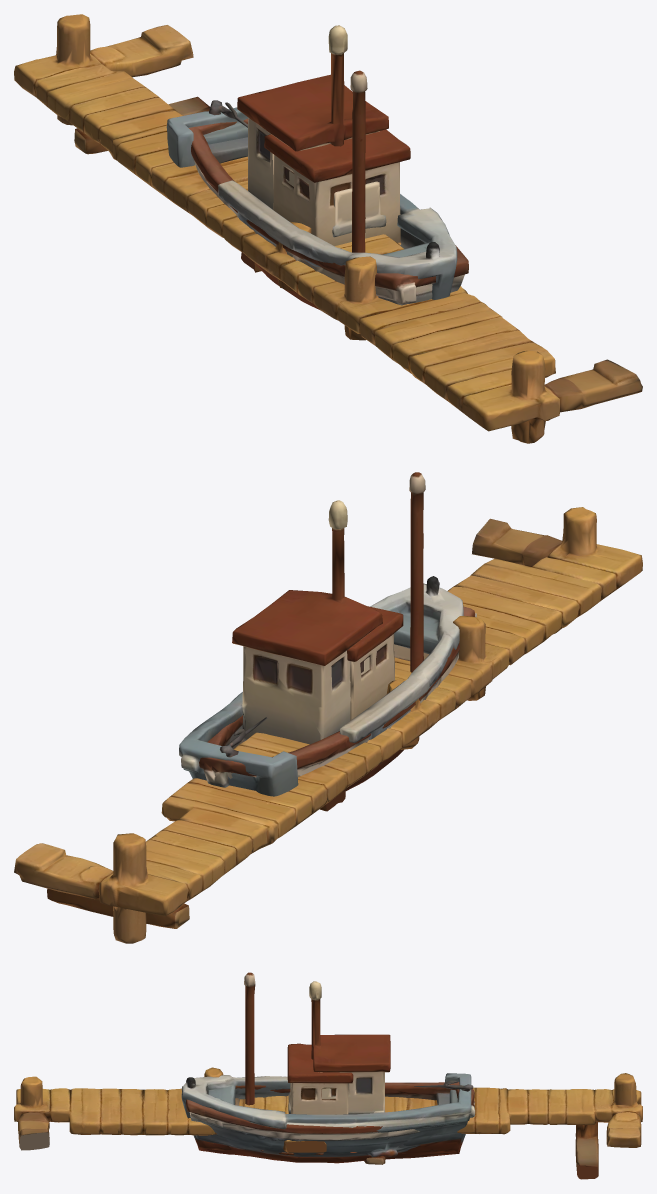
The model's file is bateaux.glb.
3 renders of one model, top to bottom at view 1: azimuth 30°, elevation 25°; view 2: azimuth 150°, elevation 25°; view 3: azimuth 270°, elevation 25°, orthographic. The views are drawn at different scales.
Parts seen in each view (by area): view 1: ponton, bateau-peche-bleu, bateau-peche-rouge; view 2: ponton, bateau-peche-bleu, bateau-peche-rouge; view 3: ponton, bateau-peche-bleu, bateau-peche-rouge.
Part boxes in pixels (x1=…): ponton: x1=14, y1=14, x2=642, y2=443; bateau-peche-bleu: x1=166, y1=25, x2=457, y2=299; bateau-peche-rouge: x1=189, y1=70, x2=468, y2=309; ponton: x1=14, y1=507, x2=642, y2=943; bateau-peche-bleu: x1=179, y1=500, x2=463, y2=811; bateau-peche-rouge: x1=199, y1=472, x2=476, y2=791; ponton: x1=14, y1=1067, x2=642, y2=1179; bateau-peche-bleu: x1=181, y1=981, x2=475, y2=1164; bateau-peche-rouge: x1=181, y1=972, x2=474, y2=1163.
Bounding box in the file's own units: 2.92 × 4.55 × 15.
Materials: 1 (1 with a texture image).
